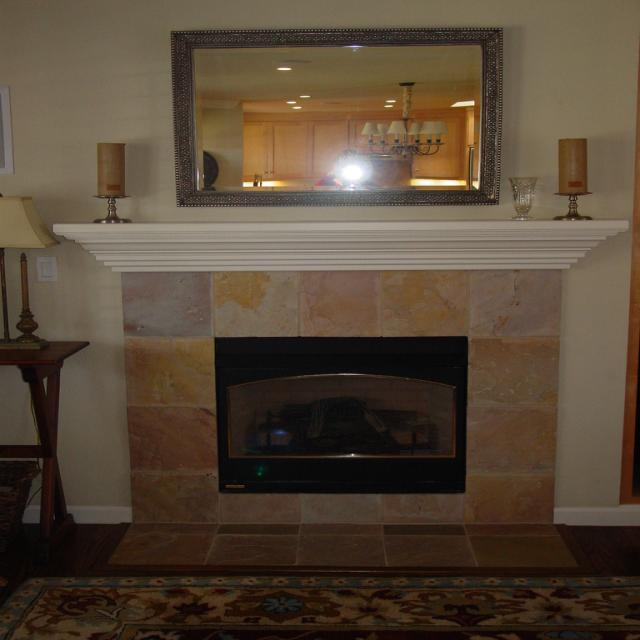no_fire: (223, 125, 483, 223)
